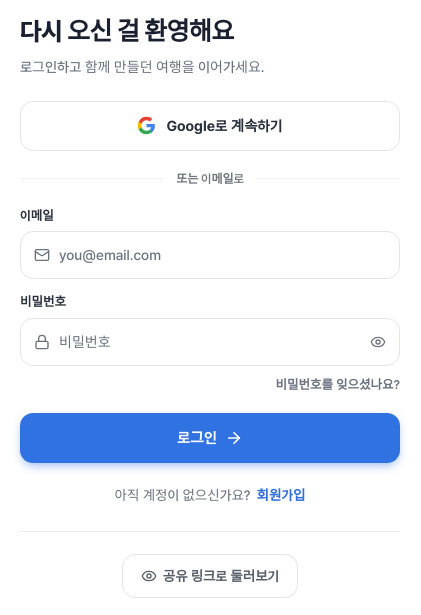
Test case: AuthPanel — 비밀번호 찾기 › '비밀번호를 잊으셨나요?' → 재설정 뷰로 전환
This screenshot has width=421, height=615.
Click the button "비밀번호를 잊으셨나요?": (338, 385) x1=276 y1=376 x2=400 y2=395
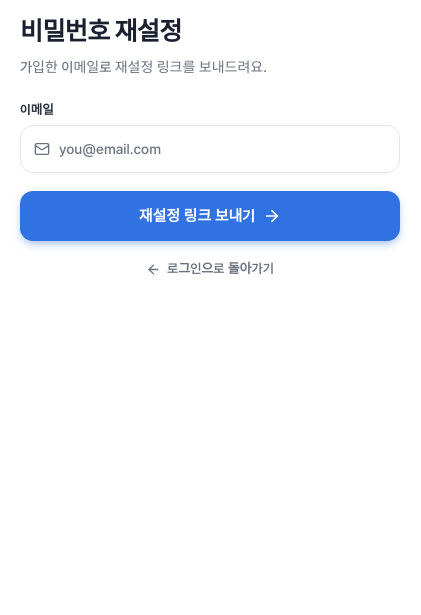
Result: the heading "비밀번호 재설정" is shown at x1=20 y1=16 x2=182 y2=46
Result: the button "재설정 링크 보내기" is shown at x1=20 y1=191 x2=400 y2=241
